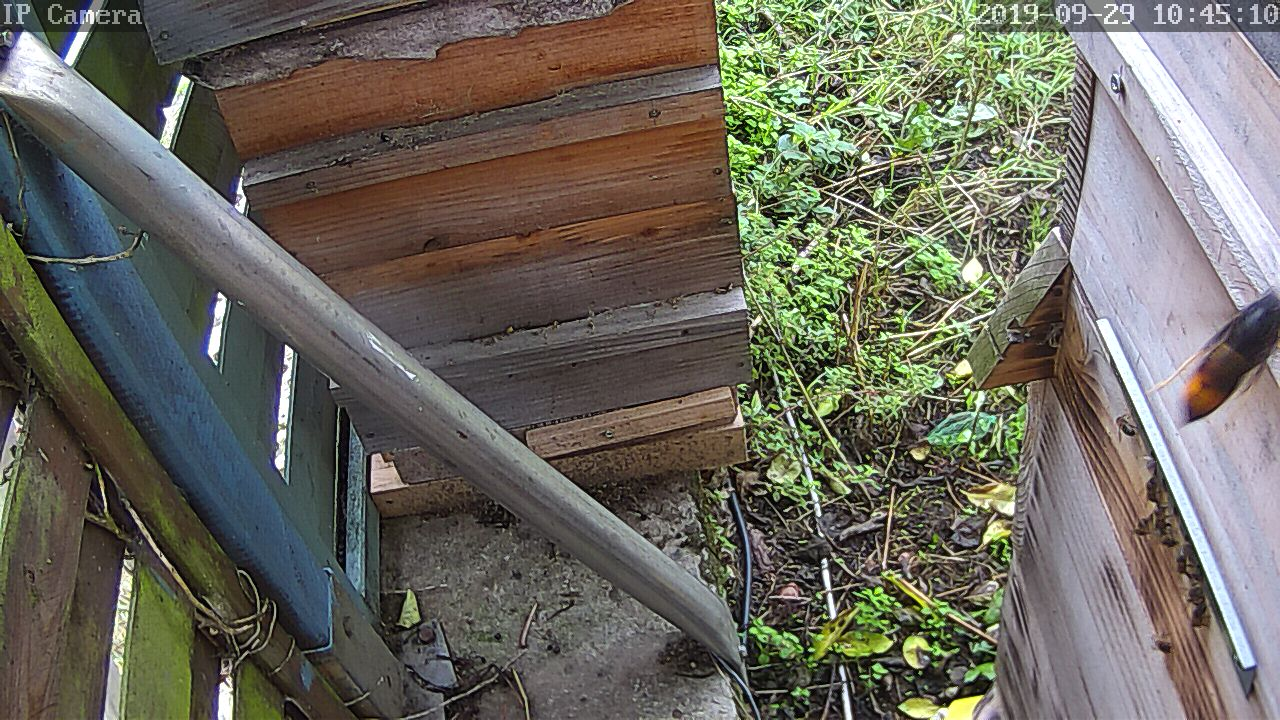bee: (1135, 469, 1179, 546), (1180, 582, 1220, 632), (1171, 532, 1207, 579), (1109, 410, 1143, 445)
hornet: (1171, 281, 1280, 430)
